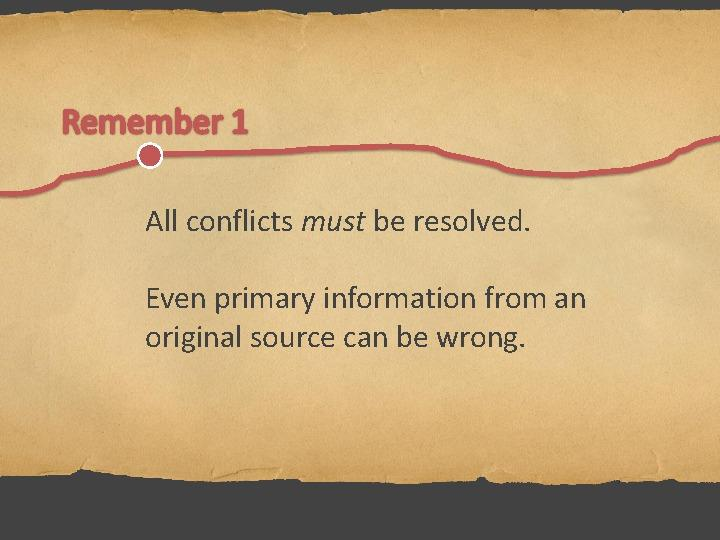paragraph: (139, 188, 642, 397)
title: (54, 100, 257, 144)
